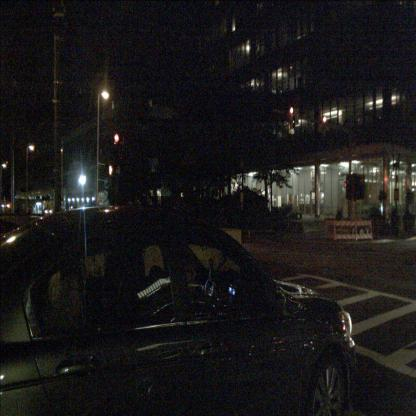vehicle-car: (0, 206, 356, 416), (42, 207, 52, 218)
